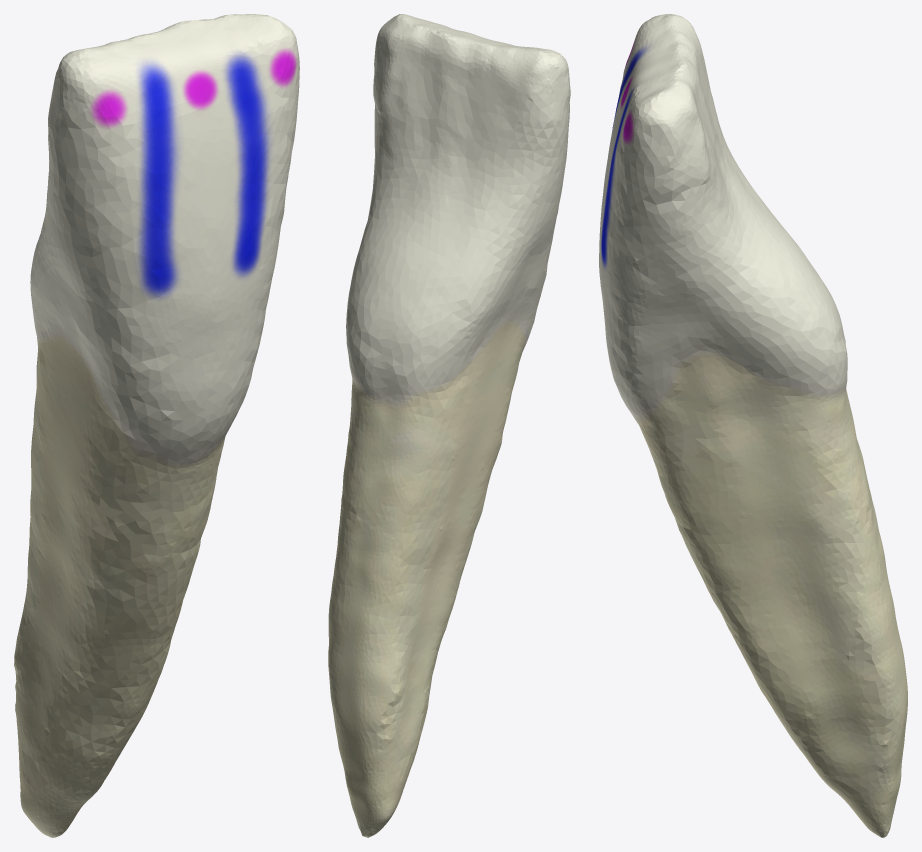
File: 31 - incisivo central inferior esquerdo - face vestibular.glb
3 renders of one model, left to right at view 1: azimuth 30°, elevation 25°; view 2: azimuth 150°, elevation 25°; view 3: azimuth 270°, elevation 25°, orthographic. The views are drawn at different scales.
Visible parts, largest first — view 1: mesh_id4; view 2: mesh_id4; view 3: mesh_id4.
Boxes of the visible parts, bbox=[...] form: mesh_id4: bbox=[14, 14, 299, 837]; mesh_id4: bbox=[328, 14, 570, 837]; mesh_id4: bbox=[599, 14, 907, 837].
Bounding box in the file's own units: 0.126 × 0.4627 × 0.1657.
1 material, 1 textured.
